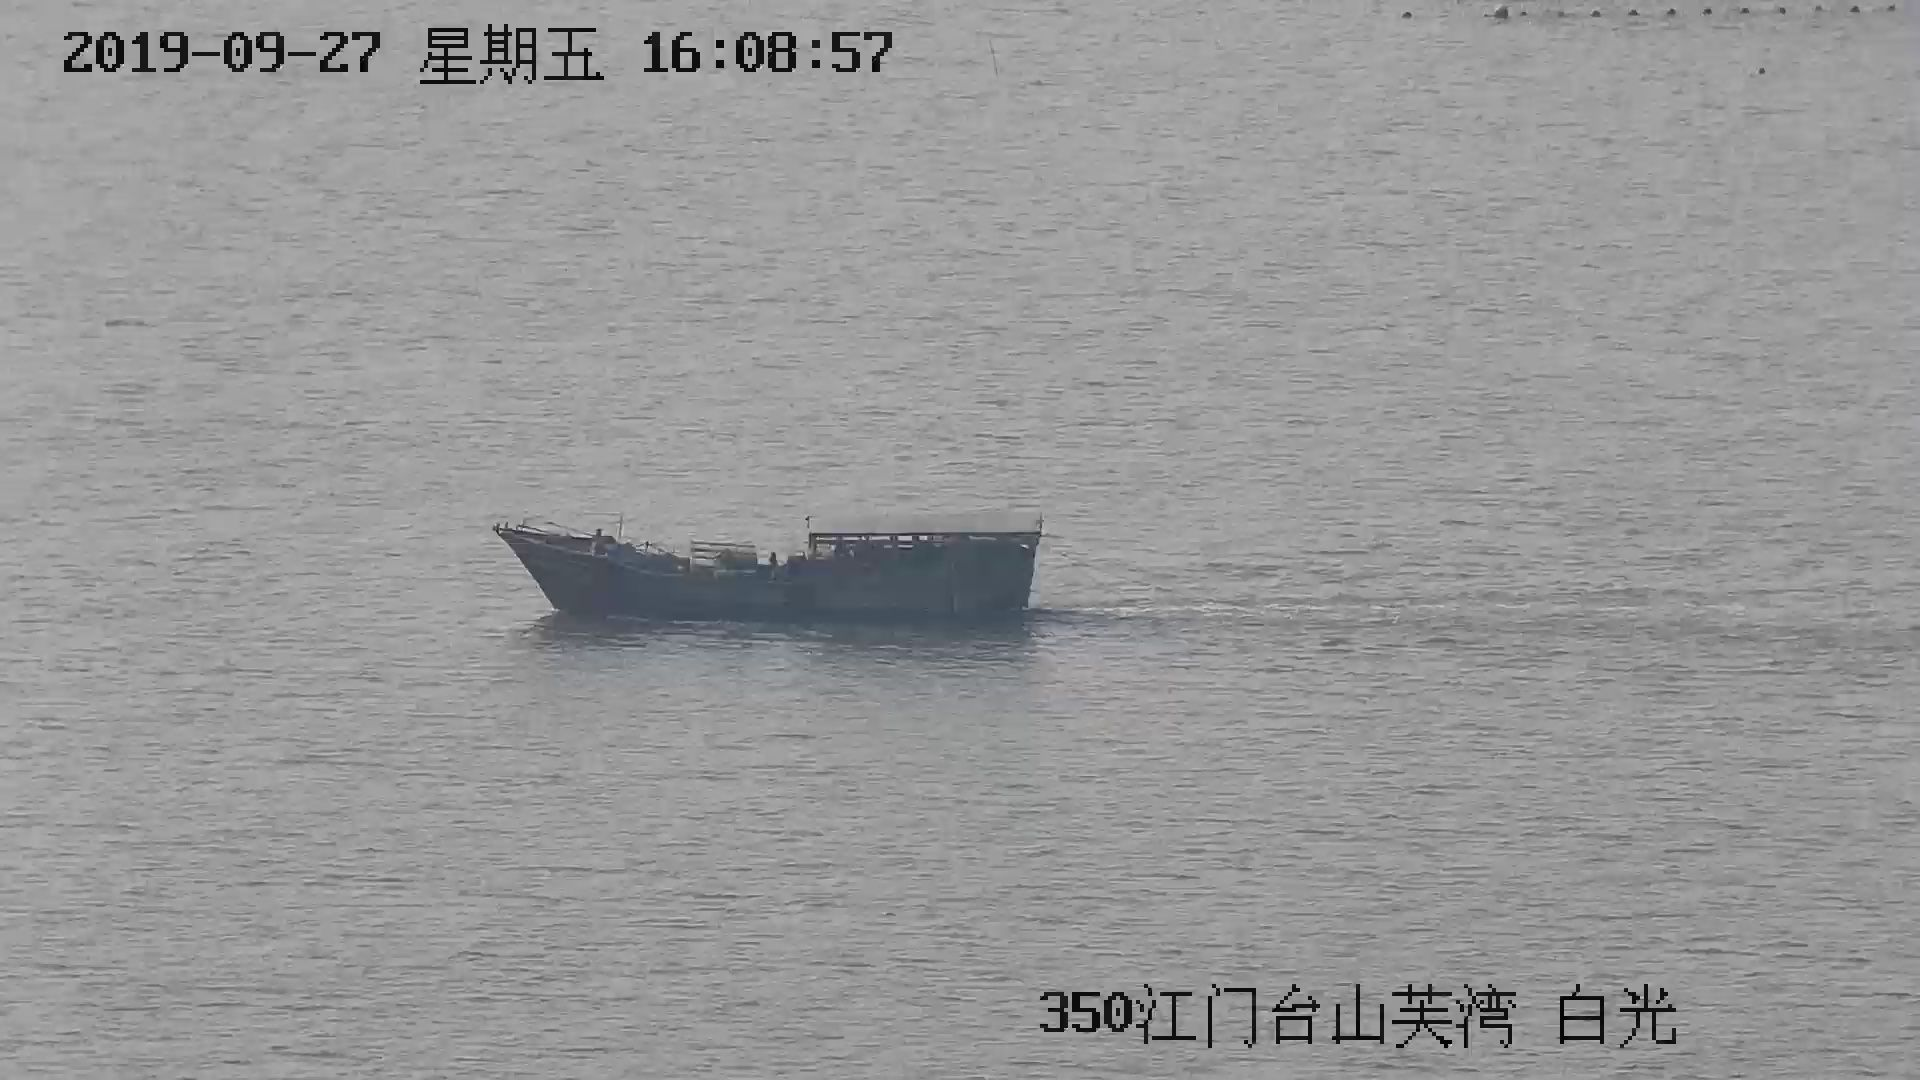ship: (498, 502, 1043, 637)
